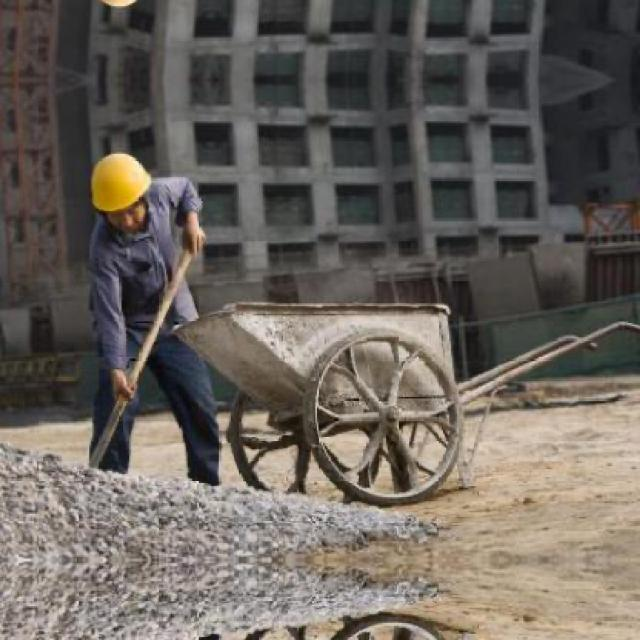con casco: (17, 108, 208, 233)
